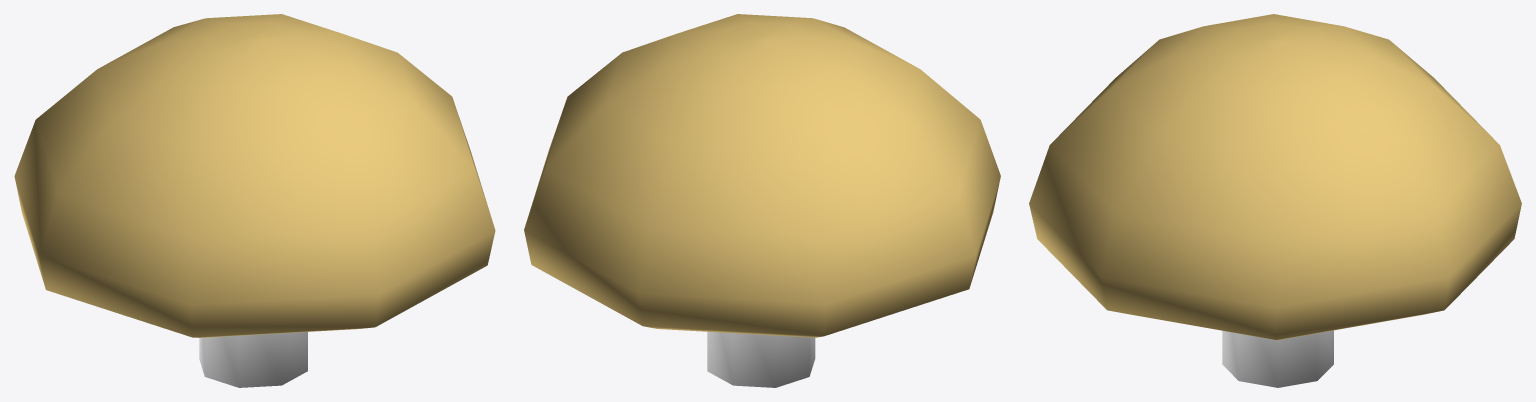
Rendered from Mushroom4.fbx.
3 views of the same model, side by side, from view 1: azimuth 30°, elevation 25°; view 2: azimuth 150°, elevation 25°; view 3: azimuth 270°, elevation 25° (orthographic).
Visible parts, largest first — view 1: Circle.001; view 2: Circle.001; view 3: Circle.001.
Part boxes in pixels (x1,y1,x2,y2): Circle.001: (14,14,495,387); Circle.001: (524,14,1000,387); Circle.001: (1029,14,1521,387).
Bounding box in the file's own units: 883 × 641 × 883.
